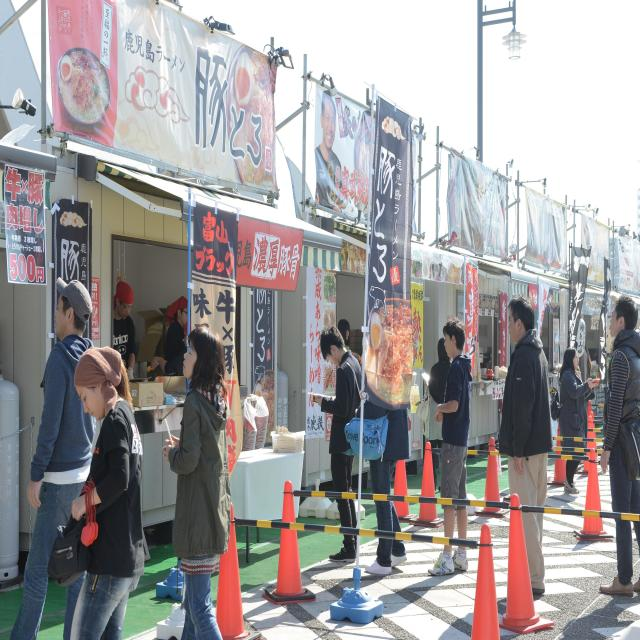body: (41, 338, 150, 640), (8, 276, 97, 640), (230, 562, 634, 640), (160, 322, 232, 640), (494, 288, 556, 602), (596, 291, 640, 603), (307, 324, 363, 564), (426, 316, 474, 576), (344, 399, 410, 576), (548, 343, 602, 498), (415, 336, 451, 492), (314, 91, 346, 209), (112, 279, 140, 383), (162, 295, 192, 377), (148, 339, 202, 382), (337, 318, 361, 362)
